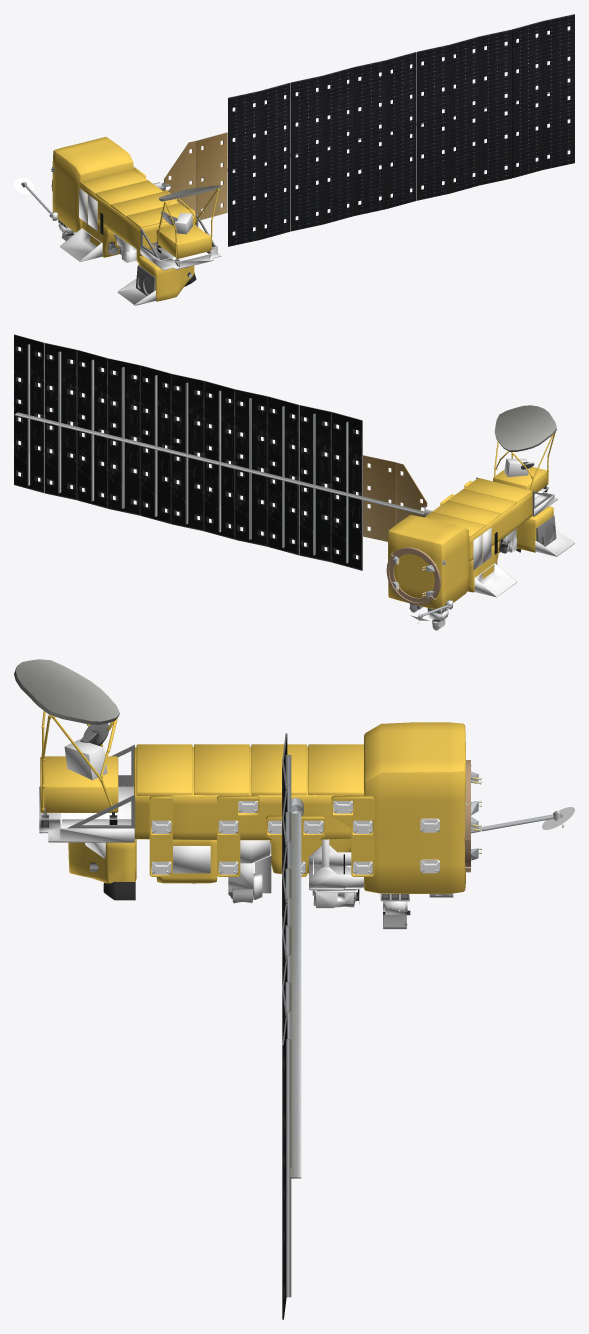
File: Aqua.gltf
3 views of the same model, one above another, from view 1: azimuth 30°, elevation 25°; view 2: azimuth 150°, elevation 25°; view 3: azimuth 270°, elevation 25° (orthographic). The views are drawn at different scales.
Visible parts, largest first — view 1: node_shiny_panel_-6156, node_foil_gold_-6146, node_panel_-6152, node_foil_silver_-6148, node_tex_01_-6158, node_instruments_-6150; view 2: node_panel_-6152, node_foil_gold_-6146, node_foil_silver_-6148, node_tex_01_-6158, node_ring_-6154, node_instruments_-6150; view 3: node_foil_gold_-6146, node_foil_silver_-6148, node_panel_-6152, node_tex_01_-6158, node_instruments_-6150, node_ring_-6154.
Boxes of the visible parts, <box> form: node_shiny_panel_-6156: <box>228,14,574,246</box>; node_foil_gold_-6146: <box>52,137,219,301</box>; node_panel_-6152: <box>153,14,574,246</box>; node_foil_silver_-6148: <box>51,188,221,305</box>; node_tex_01_-6158: <box>14,177,220,295</box>; node_instruments_-6150: <box>50,166,211,277</box>; node_panel_-6152: <box>14,334,432,570</box>; node_foil_gold_-6146: <box>388,432,555,608</box>; node_foil_silver_-6148: <box>427,458,574,624</box>; node_tex_01_-6158: <box>410,405,556,623</box>; node_ring_-6154: <box>386,547,441,605</box>; node_instruments_-6150: <box>409,461,548,630</box>; node_foil_gold_-6146: <box>40,711,465,893</box>; node_foil_silver_-6148: <box>39,739,447,914</box>; node_panel_-6152: <box>282,733,303,1319</box>; node_tex_01_-6158: <box>14,659,574,840</box>; node_instruments_-6150: <box>41,723,453,929</box>; node_ring_-6154: <box>464,760,481,872</box>.
Bounding box in the file's own units: 17.78 × 5.08 × 9.4.
11 materials, 4 textured.
